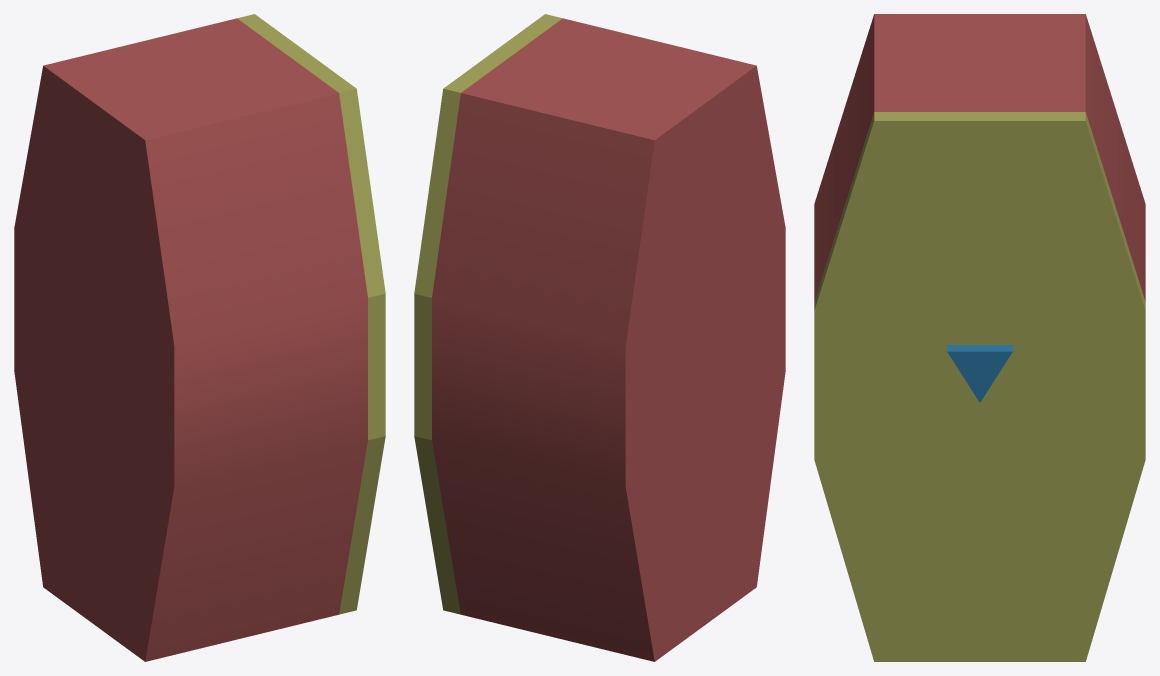
The model's file is Kühlschrank_2_low.fbx.
3 views of the same model, side by side, from view 1: azimuth 30°, elevation 25°; view 2: azimuth 150°, elevation 25°; view 3: azimuth 270°, elevation 25° (orthographic). The views are drawn at different scales.
Visible parts, largest first — view 1: polySurface18, polySurface23, polySurface24; view 2: polySurface18, polySurface24, polySurface23; view 3: polySurface23, polySurface24, polySurface18, polySurface25, polySurface26.
Boxes of the visible parts, x1,y1,x2,y2 form: polySurface18: [14, 18, 367, 661]; polySurface23: [288, 51, 385, 614]; polySurface24: [237, 14, 305, 55]; polySurface18: [432, 18, 785, 661]; polySurface24: [414, 51, 511, 614]; polySurface23: [494, 14, 562, 55]; polySurface23: [814, 112, 979, 661]; polySurface24: [980, 112, 1145, 661]; polySurface18: [814, 14, 1145, 301]; polySurface25: [980, 345, 1012, 402]; polySurface26: [947, 345, 979, 402].
Size of the model in its own units: 0.8131 by 1.8 by 1.
